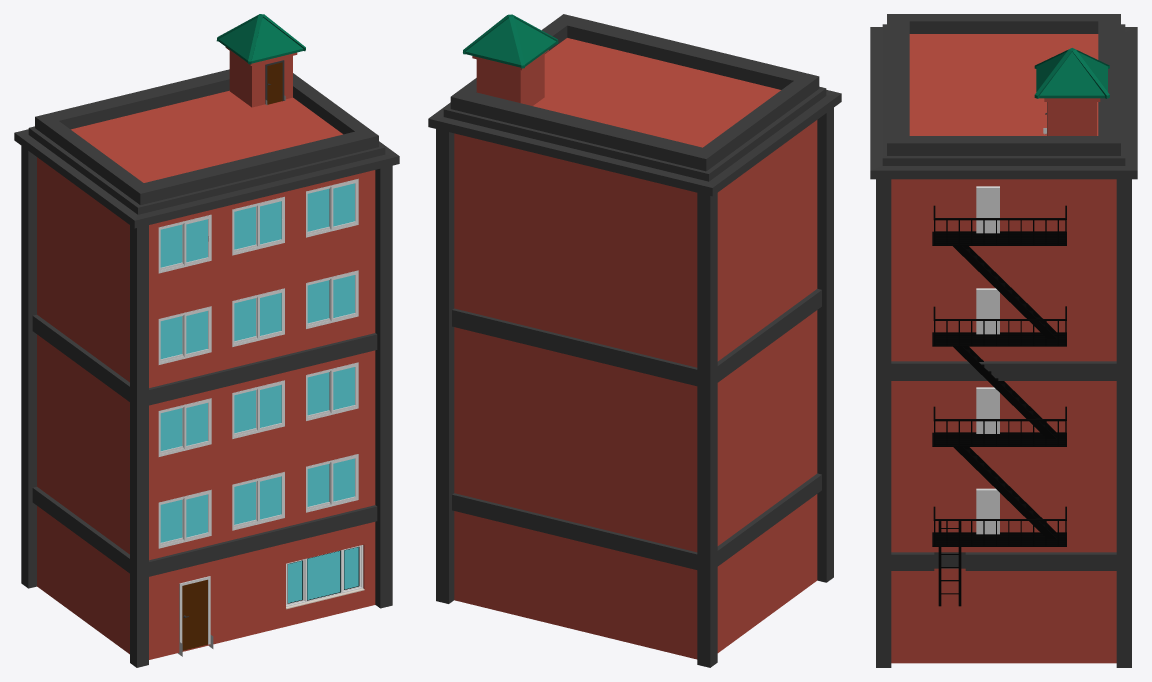
File: Building 1.fbx
The picture shows the model from 3 angles, left to right: view 1: azimuth 30°, elevation 25°; view 2: azimuth 150°, elevation 25°; view 3: azimuth 270°, elevation 25°; orthographic projection. The views are drawn at different scales.
Visible parts, largest first — view 1: Cube.131, Cube.132, Window.L.002, Cube.133, Window.004, Door, Window.R.023, Window.R.022, Window.L.011, Window.L.012, Door.008; view 2: Cube.131, Cube.132, Cube.133; view 3: Cube.131, Cube.132, Cube.170, Cube.133, CTRL_Hole.037, CTRL_Hole.038, CTRL_Hole.040, CTRL_Hole.039, Cube.163.
Part boxes in pixels (x1=…): Cube.131: x1=14, y1=69, x2=399, y2=659; Cube.132: x1=21, y1=146, x2=392, y2=667; Window.L.002: x1=160, y1=181, x2=356, y2=544; Cube.133: x1=216, y1=14, x2=305, y2=107; Window.004: x1=286, y1=545, x2=364, y2=609; Door: x1=182, y1=579, x2=207, y2=650; Window.R.023: x1=257, y1=199, x2=283, y2=247; Window.R.022: x1=183, y1=217, x2=209, y2=265; Window.L.011: x1=160, y1=223, x2=183, y2=269; Window.L.012: x1=234, y1=205, x2=256, y2=252; Door.008: x1=267, y1=62, x2=282, y2=104; Cube.131: x1=428, y1=14, x2=841, y2=659; Cube.132: x1=436, y1=108, x2=833, y2=667; Cube.133: x1=463, y1=14, x2=558, y2=105; Cube.131: x1=870, y1=14, x2=1137, y2=663; Cube.132: x1=876, y1=179, x2=1131, y2=667; Cube.170: x1=932, y1=205, x2=1066, y2=546; Cube.133: x1=1034, y1=48, x2=1109, y2=135; CTRL_Hole.037: x1=976, y1=187, x2=999, y2=233; CTRL_Hole.038: x1=976, y1=289, x2=999, y2=334; CTRL_Hole.040: x1=976, y1=489, x2=999, y2=534; CTRL_Hole.039: x1=976, y1=388, x2=999, y2=433; Cube.163: x1=938, y1=521, x2=961, y2=606.
Bounding box in the file's own units: 639 × 1188 × 482.
